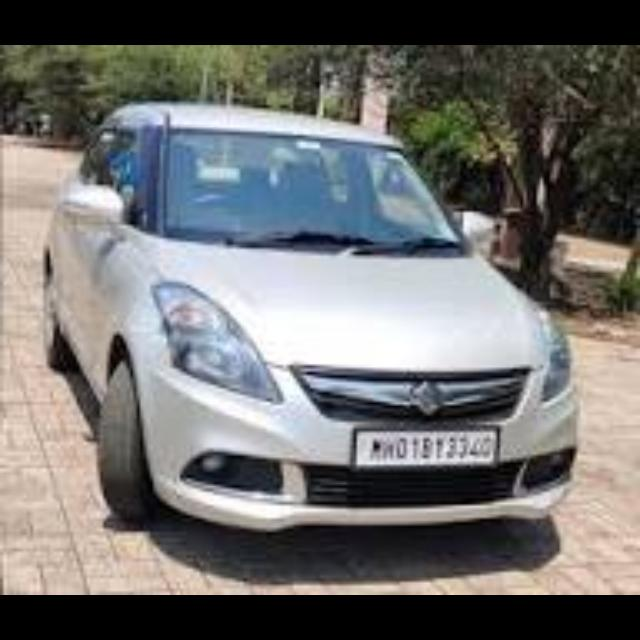vehicles: (34, 146, 586, 548)
